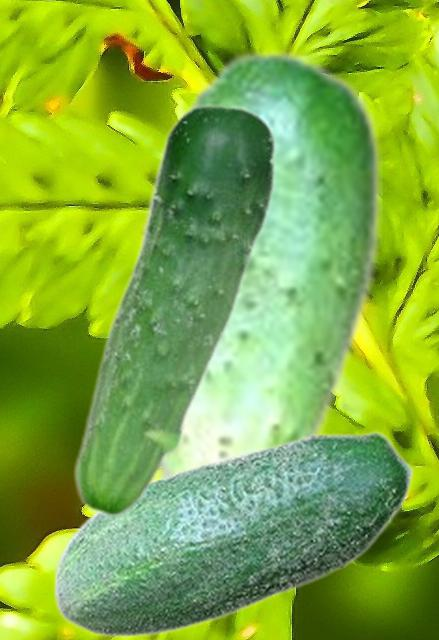cucumber: (133, 47, 381, 475), (71, 103, 277, 517), (52, 430, 414, 637)
